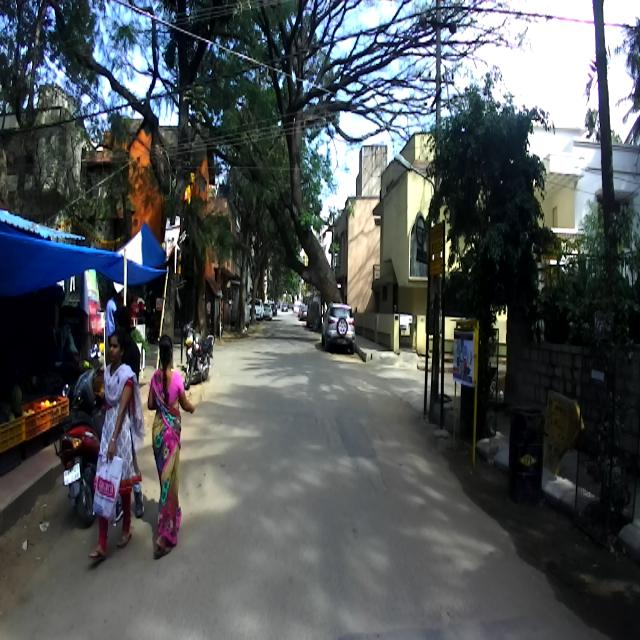motorcycle ahead at: (54, 360, 103, 523)
person ahead at: (99, 333, 148, 564), (152, 337, 193, 557)
